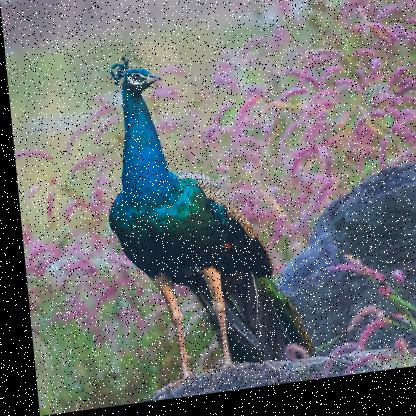Burung: (93, 42, 308, 401)
